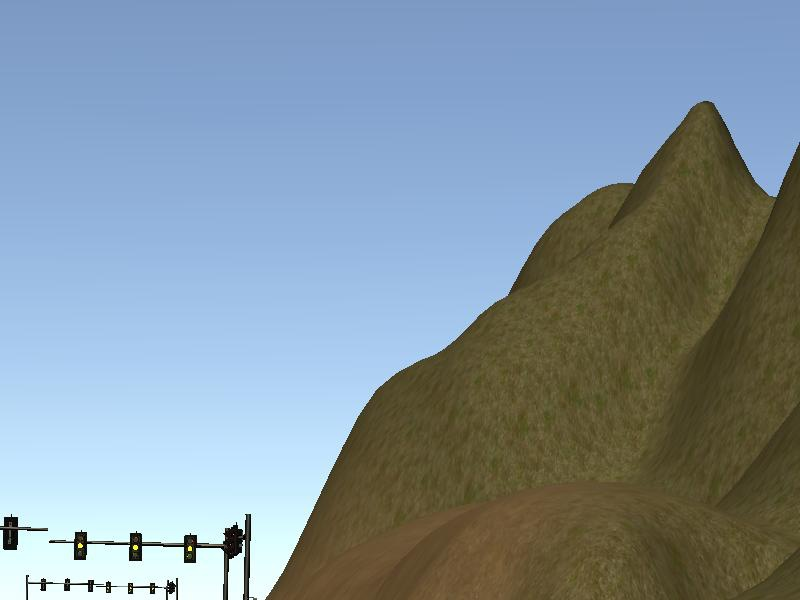yellow_light: (128, 531, 144, 560), (75, 532, 87, 561), (185, 534, 196, 563)
